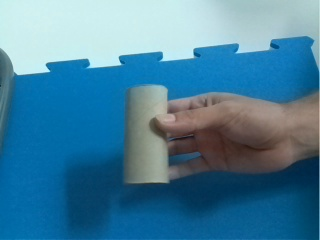rollo papel: (123, 84, 171, 186)
